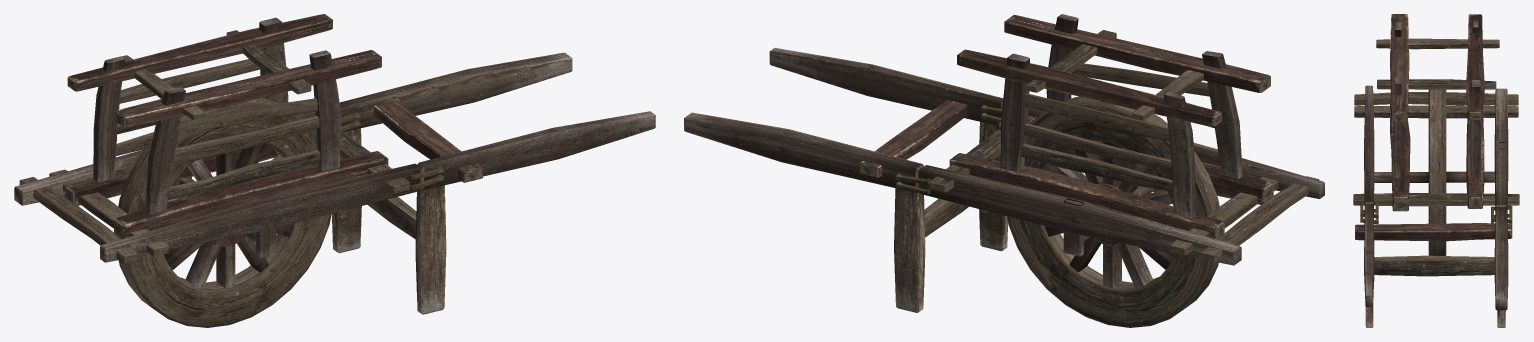
3 renders of one model, left to right at view 1: azimuth 30°, elevation 25°; view 2: azimuth 150°, elevation 25°; view 3: azimuth 270°, elevation 25°, orthographic. The views are drawn at different scales.
Parts seen in each view (by area): view 1: fangzi; view 2: fangzi; view 3: fangzi.
Boxes of the visible parts, <box> form: fangzi: <box>14,14,655,327</box>; fangzi: <box>684,14,1324,327</box>; fangzi: <box>1353,14,1519,327</box>.
Bounding box in the file's own units: 113 × 52.61 × 37.67.
5 materials, 5 textured.
